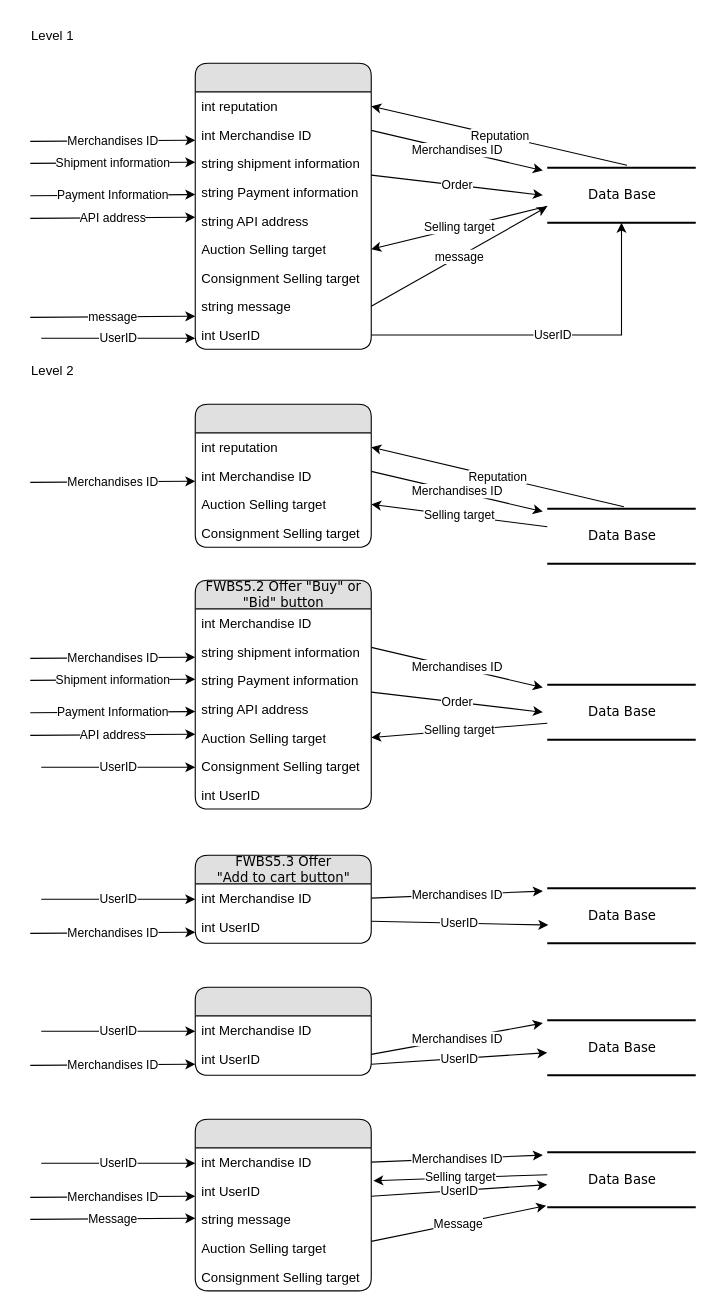
This 715x1312 diagram has some shape labels left out. The shapes that lost their labels are listed below. From the top down, each one's box as (x1, y1, x2, y2) in pixels, then its label:
(194, 62, 371, 349): FWBS5 Provide interface for each merchandise
(194, 403, 371, 547): FWBS5.1 Display merchandise information
(194, 986, 371, 1075): FWBS5.4 Offer "Add to Wish List button"
(194, 1118, 371, 1291): FWBS 5.5 Offer "Chat with seller" button
